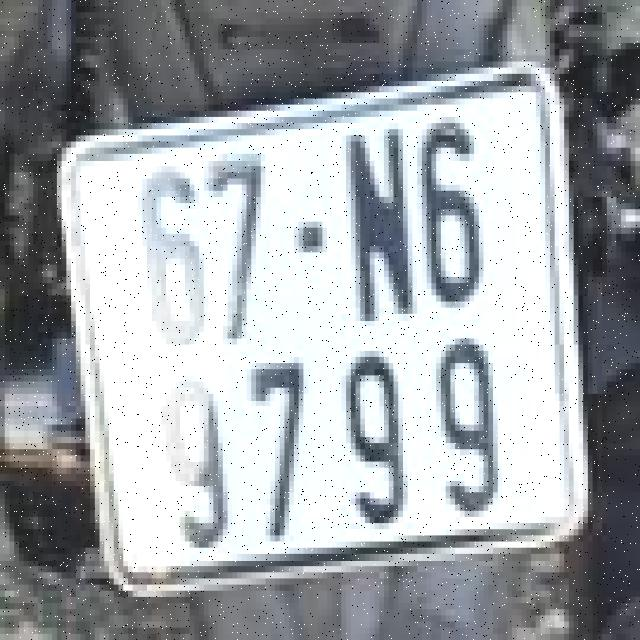6: (417, 111, 488, 320), (135, 160, 206, 357)
7: (202, 144, 272, 348), (244, 353, 311, 544)
9: (149, 370, 230, 572), (339, 342, 415, 532), (434, 332, 509, 517)
N: (339, 117, 420, 326)
